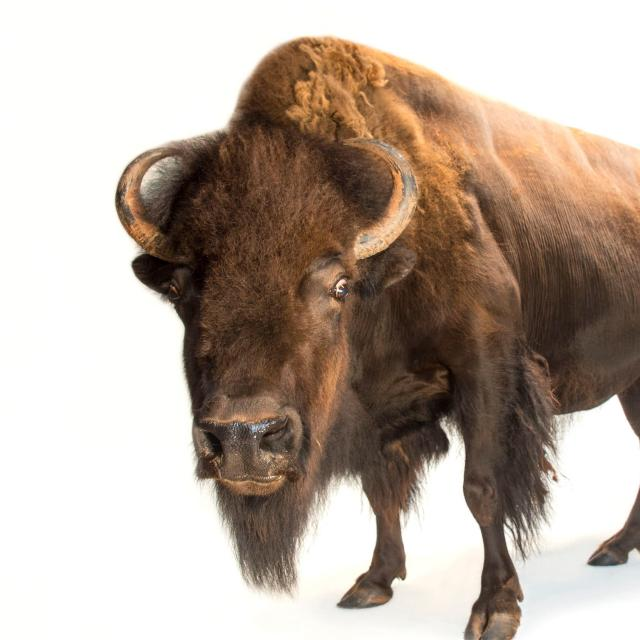Bison: (75, 19, 640, 639)
